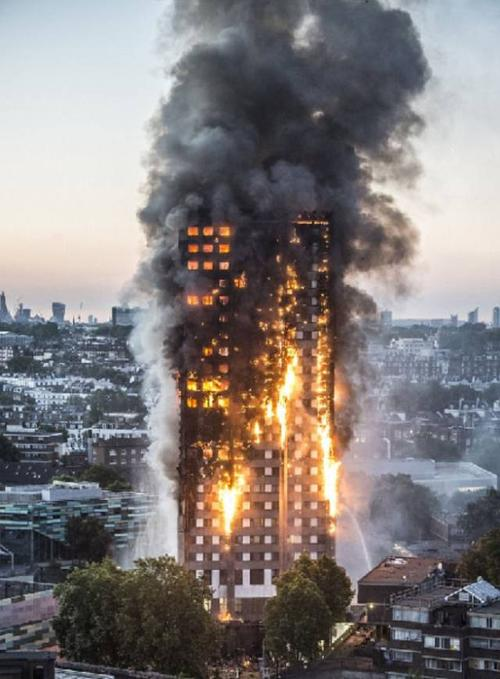fire: (178, 225, 342, 526)
smoke: (153, 17, 415, 208)
